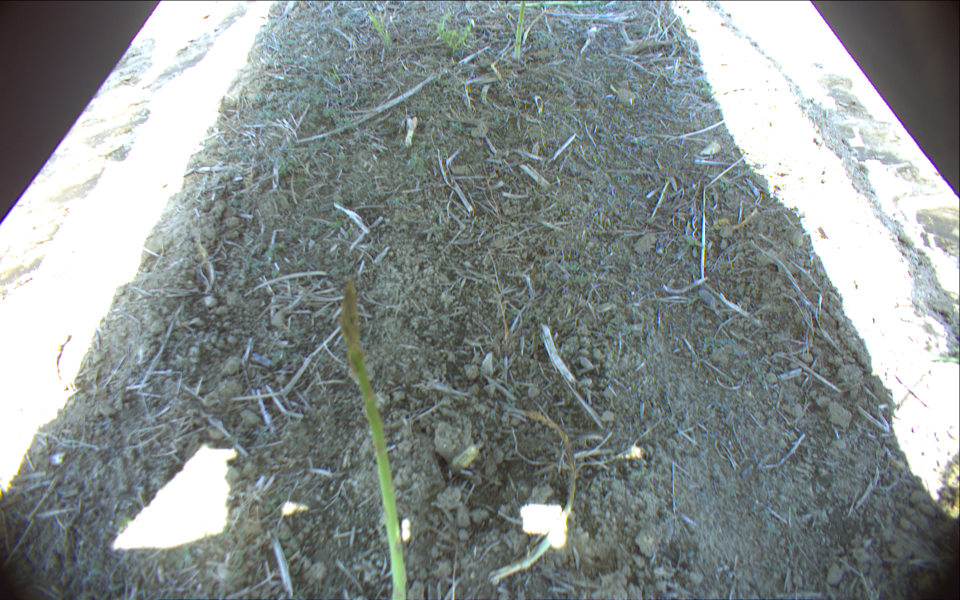aspa: (339, 282, 406, 600), (522, 11, 545, 47), (513, 1, 526, 61), (507, 1, 615, 7)
